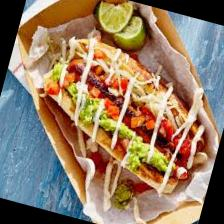Completos: (37, 33, 224, 215)
